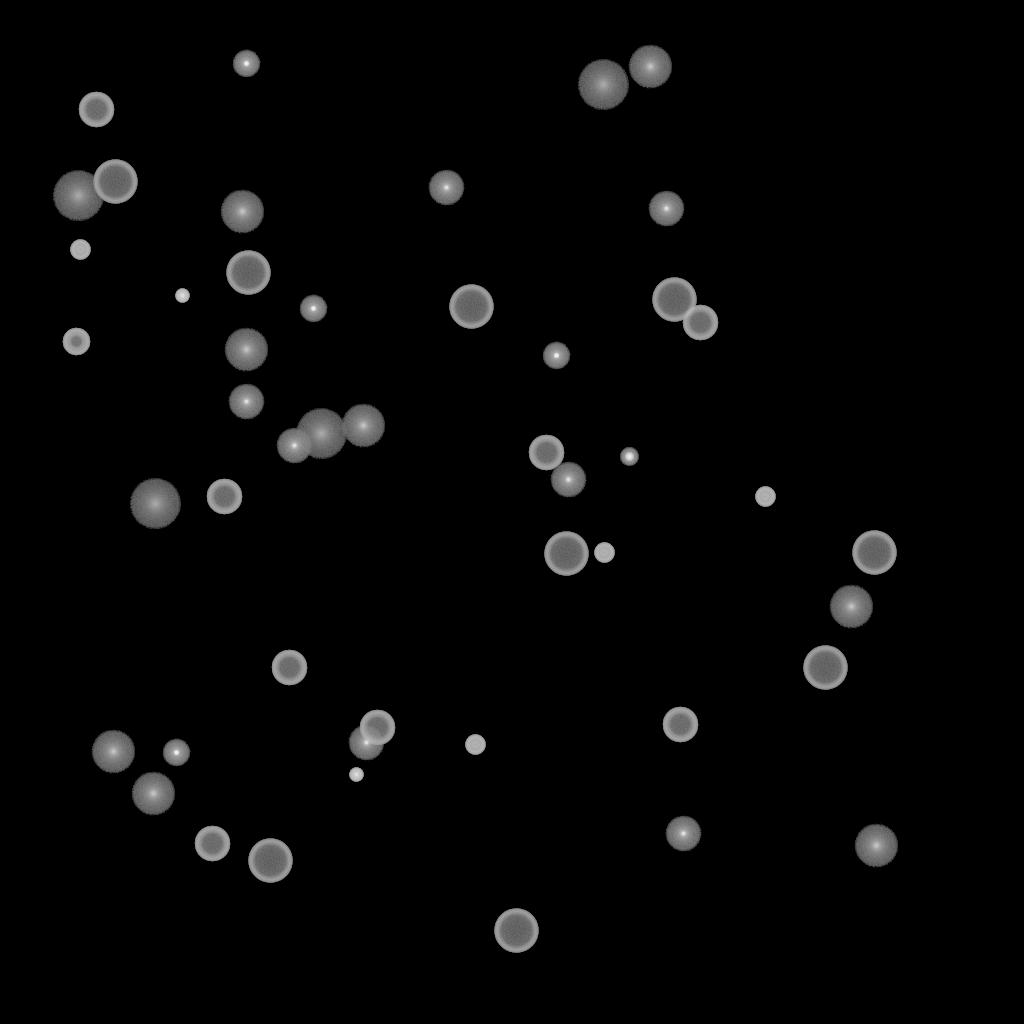depth:-10: (542, 342, 570, 370), (232, 50, 260, 78), (162, 739, 190, 767), (299, 295, 327, 323)
depth:-20: (620, 448, 638, 466)
depth:-30: (175, 289, 189, 303), (349, 768, 363, 782)
depth:-40: (465, 735, 485, 755), (755, 487, 775, 507), (70, 240, 90, 260), (594, 543, 614, 563)
depth:-50: (62, 328, 90, 356)
depth:-60: (528, 435, 564, 471), (682, 305, 718, 341), (662, 707, 698, 743), (194, 826, 230, 862), (206, 479, 242, 515), (271, 650, 307, 686), (359, 710, 395, 746), (78, 92, 114, 128)
depth:-70: (494, 909, 538, 953), (226, 251, 270, 295), (852, 531, 896, 575), (803, 646, 847, 690), (544, 532, 588, 576), (449, 285, 493, 329), (93, 160, 137, 204), (652, 278, 696, 322), (248, 839, 292, 883)
depth:0: (428, 170, 464, 206), (648, 191, 684, 227), (665, 816, 701, 852), (276, 428, 312, 464), (348, 725, 384, 761), (228, 384, 264, 420), (550, 462, 586, 498)
depth:10: (628, 45, 672, 89), (341, 404, 385, 448), (131, 772, 175, 816), (854, 824, 898, 868), (224, 328, 268, 372), (220, 190, 264, 234), (829, 585, 873, 629), (91, 730, 135, 774)
depth:20: (52, 171, 104, 221), (129, 479, 181, 529), (577, 60, 629, 110), (295, 409, 347, 459)
